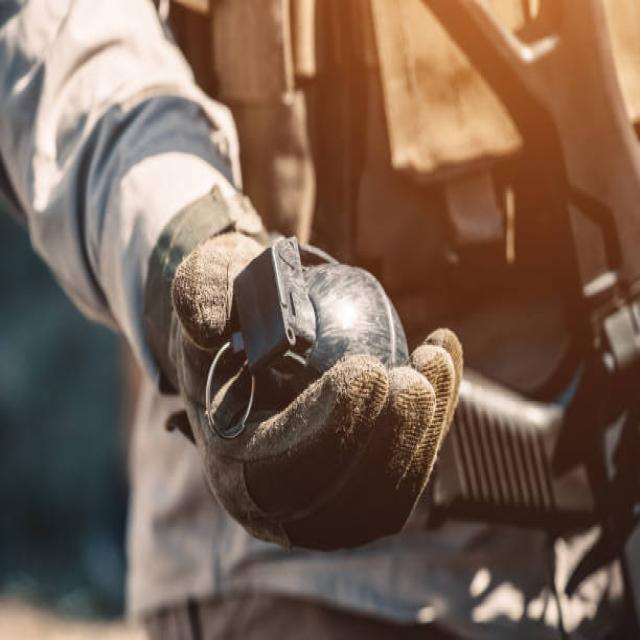grenade: (235, 236, 419, 383)
